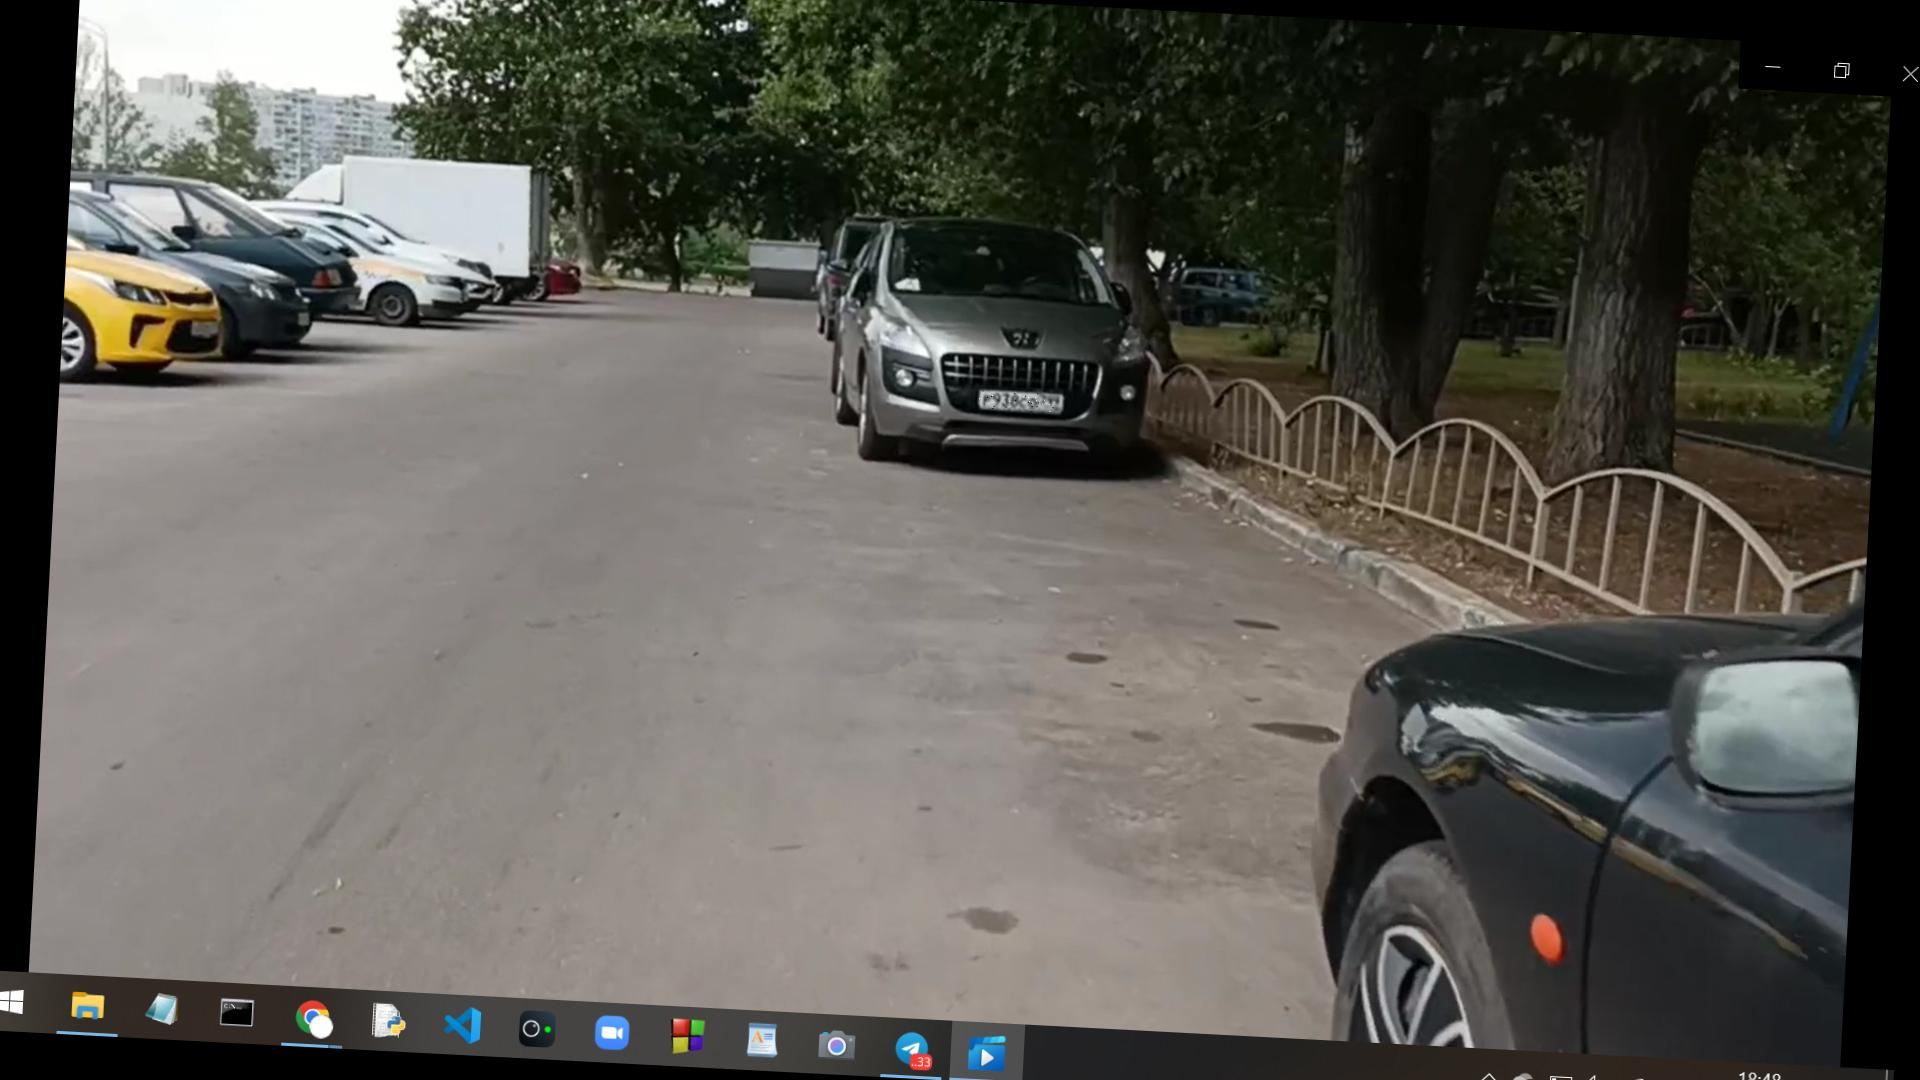plate: (976, 391, 1056, 414)
